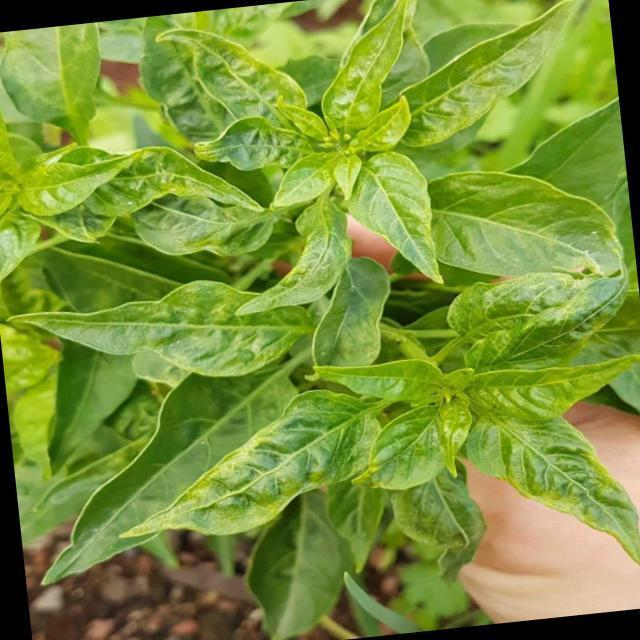Yellow Curl Virus: (100, 404, 385, 552), (5, 270, 328, 400), (379, 0, 587, 150), (477, 403, 640, 586), (412, 152, 628, 289), (0, 132, 264, 243), (305, 0, 441, 158), (152, 11, 308, 128), (446, 346, 640, 426), (344, 150, 446, 301)
